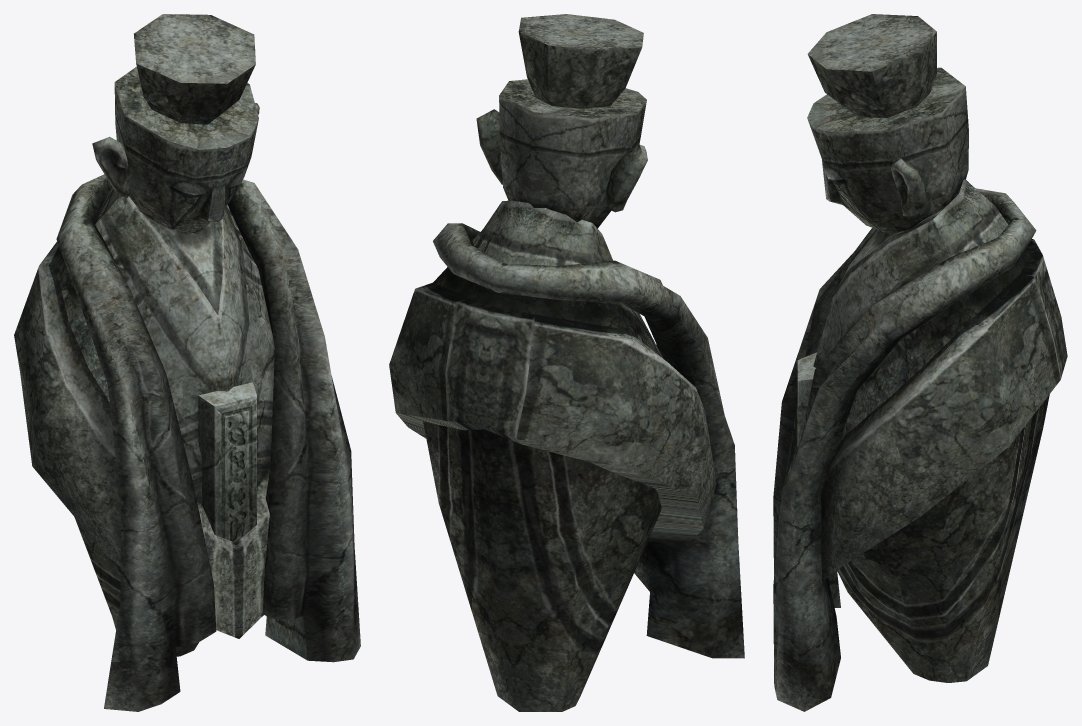
Rendered from settler_statue2.fbx.
3 renders of one model, left to right at view 1: azimuth 30°, elevation 25°; view 2: azimuth 150°, elevation 25°; view 3: azimuth 270°, elevation 25°, orthographic. The views are drawn at different scales.
Visible parts, largest first — view 1: settler_statue2; view 2: settler_statue2; view 3: settler_statue2.
Boxes of the visible parts, bbox=[...] form: settler_statue2: bbox=[14, 14, 360, 711]; settler_statue2: bbox=[389, 14, 744, 711]; settler_statue2: bbox=[773, 14, 1067, 711].
Size of the model in its own units: 1.61 by 3.37 by 1.42.
